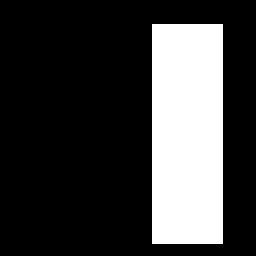person: (152, 24, 222, 243)
